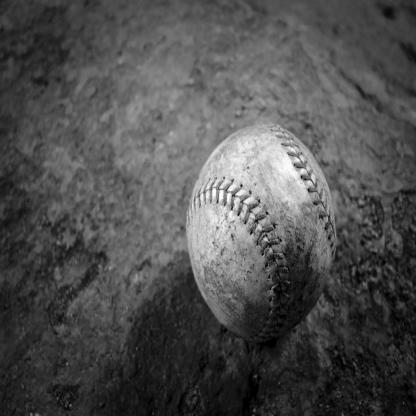Ball: (186, 124, 336, 345)
